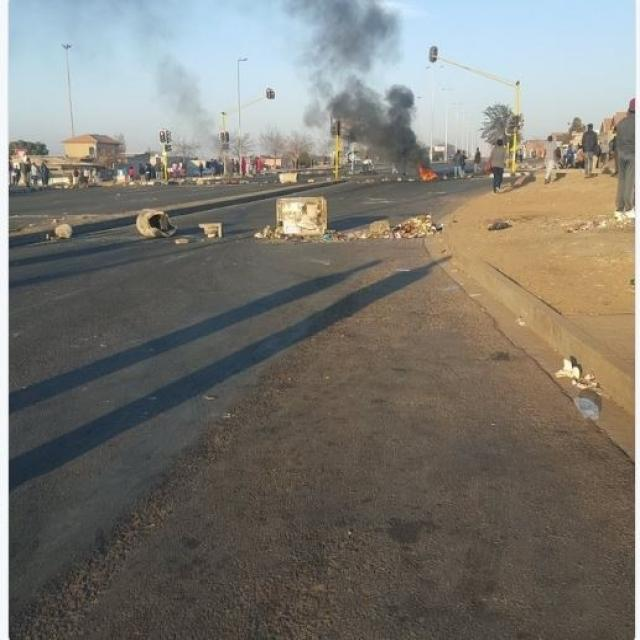smoke: (322, 6, 413, 153)
